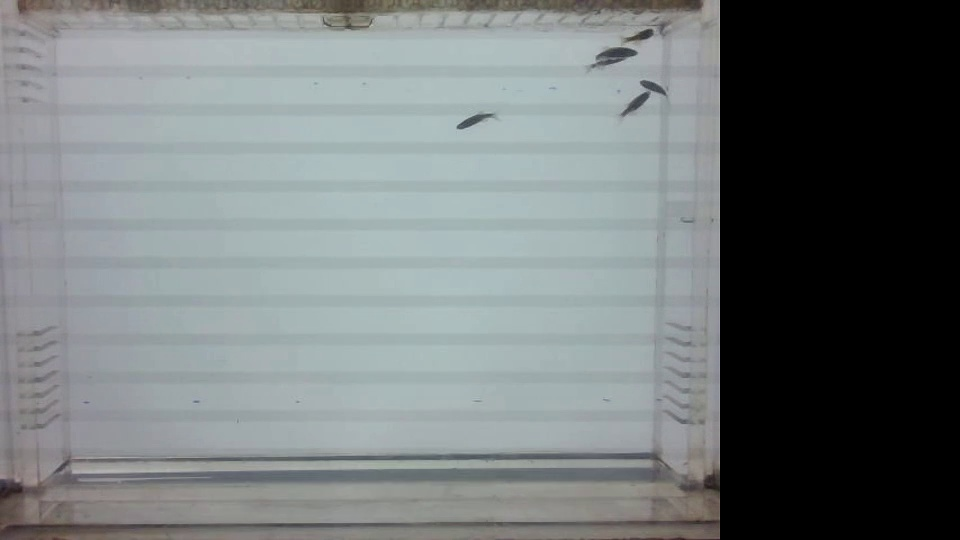fish: (448, 109, 500, 132), (620, 92, 652, 121), (620, 24, 654, 48), (580, 60, 624, 76), (588, 48, 638, 60), (636, 76, 664, 96)
